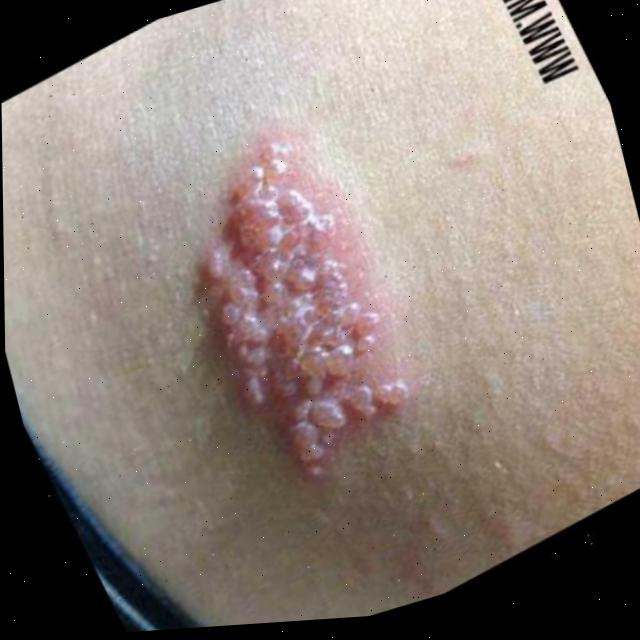Shingles: (177, 111, 414, 483)
